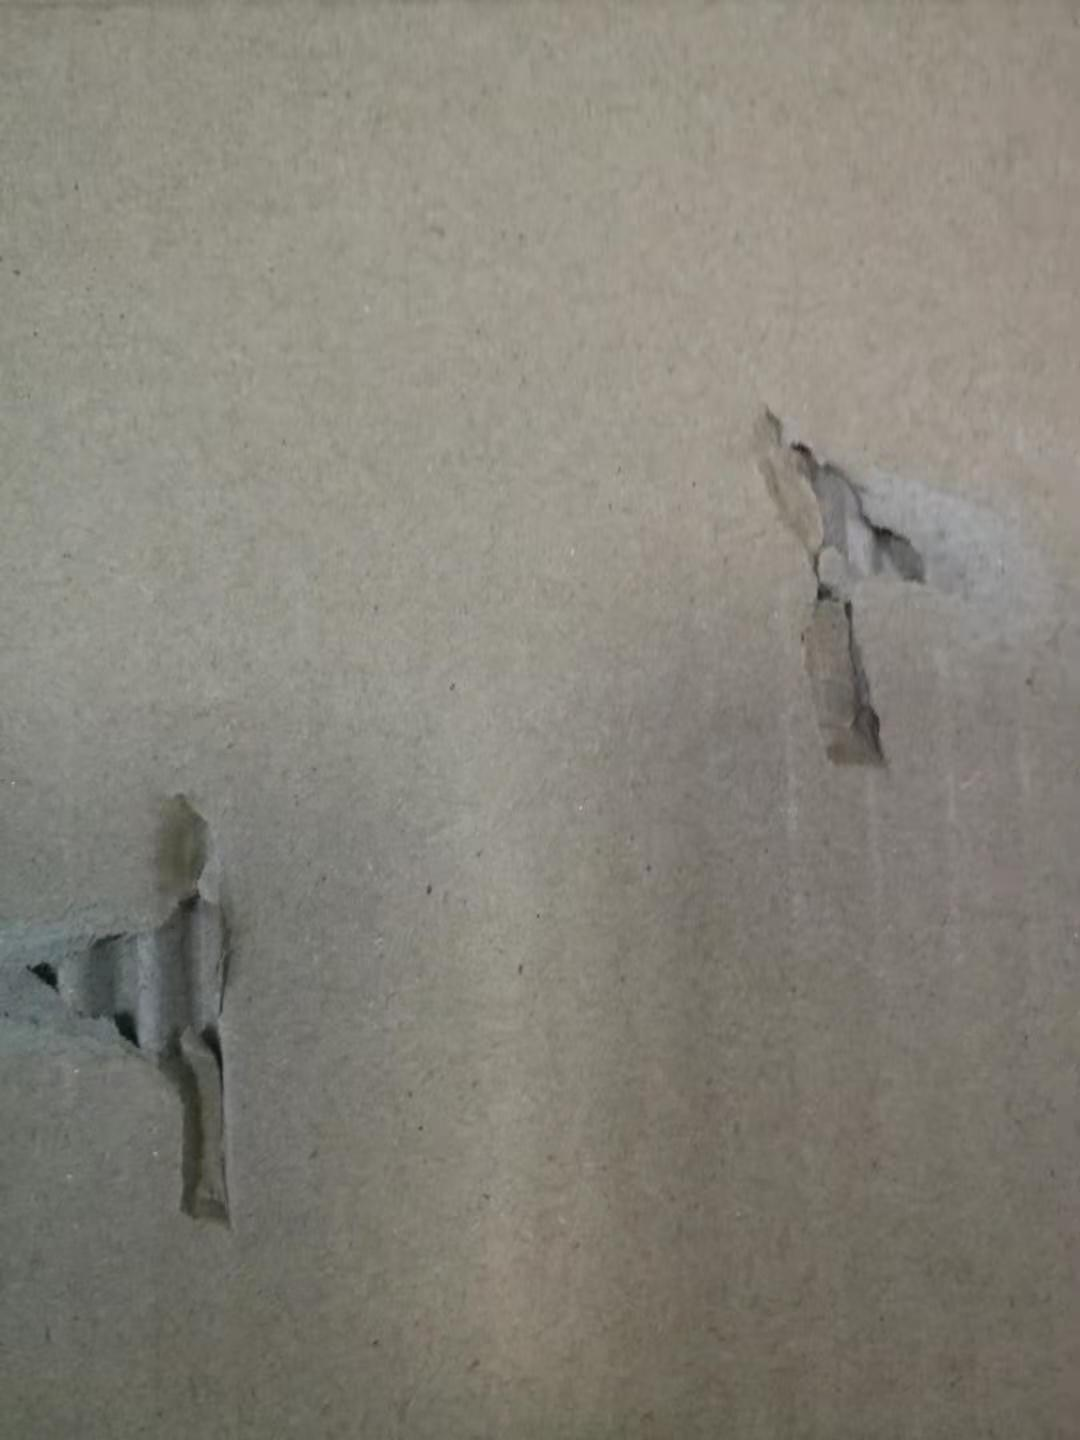defect: (709, 362, 1080, 822), (1, 759, 305, 1261)
